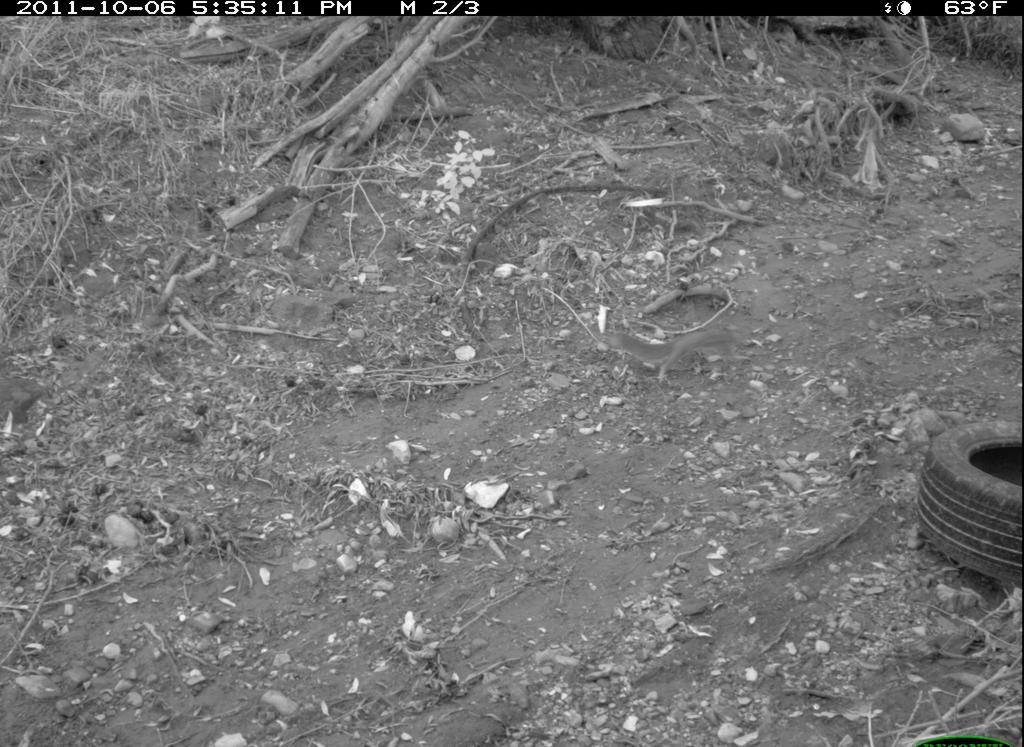squirrel: (610, 318, 776, 387)
